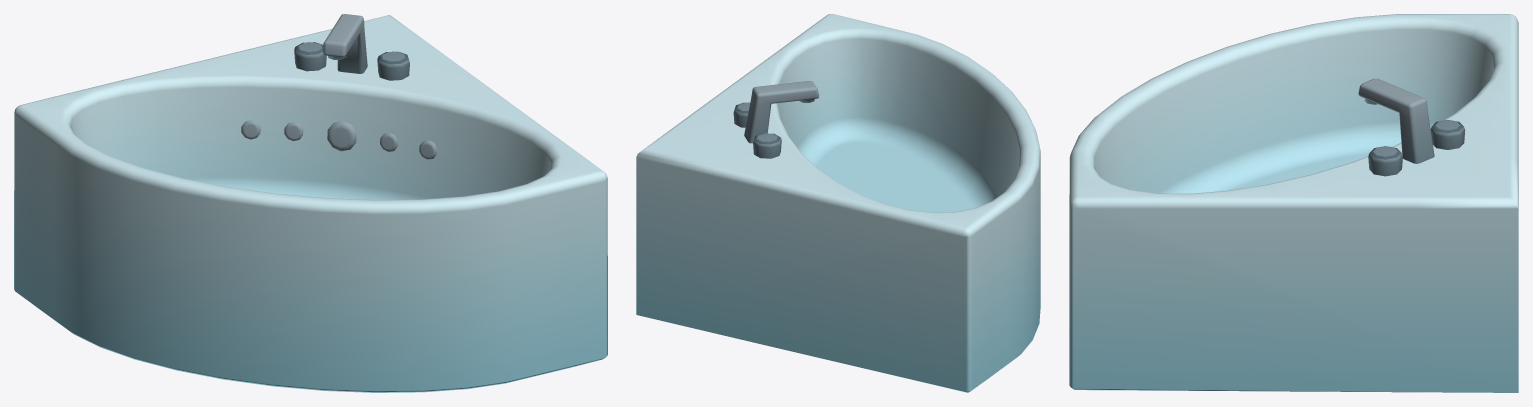
Rendered from Bath_01.glb.
The picture shows the model from 3 angles, left to right: view 1: azimuth 30°, elevation 25°; view 2: azimuth 150°, elevation 25°; view 3: azimuth 270°, elevation 25°; orthographic projection. The views are drawn at different scales.
Parts seen in each view (by area): view 1: Bath_01; view 2: Bath_01; view 3: Bath_01.
Boxes of the visible parts, x1,y1,x2,y2 form: Bath_01: (14,14,607,392); Bath_01: (636,14,1040,392); Bath_01: (1069,14,1518,392).
Size of the model in its own units: 1.27 by 0.7737 by 1.27.
Materials: 1 (1 with a texture image).
